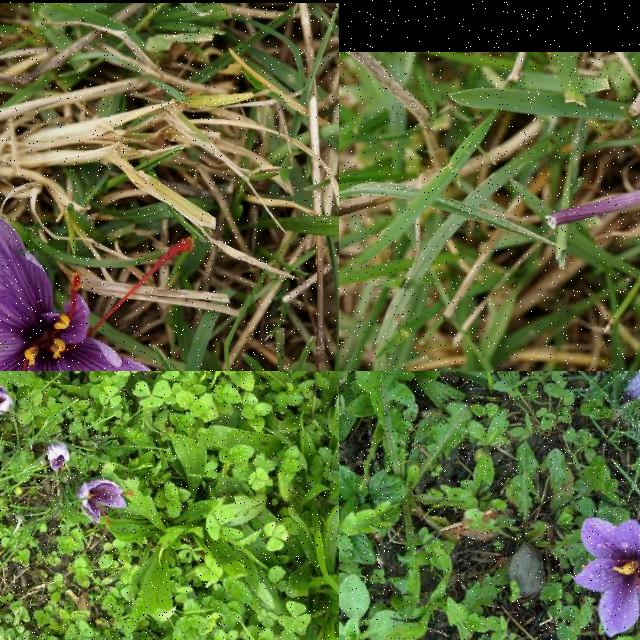flower: (0, 213, 194, 371), (571, 516, 640, 637), (79, 480, 137, 526), (48, 441, 70, 471), (0, 381, 13, 416), (625, 371, 640, 398)
